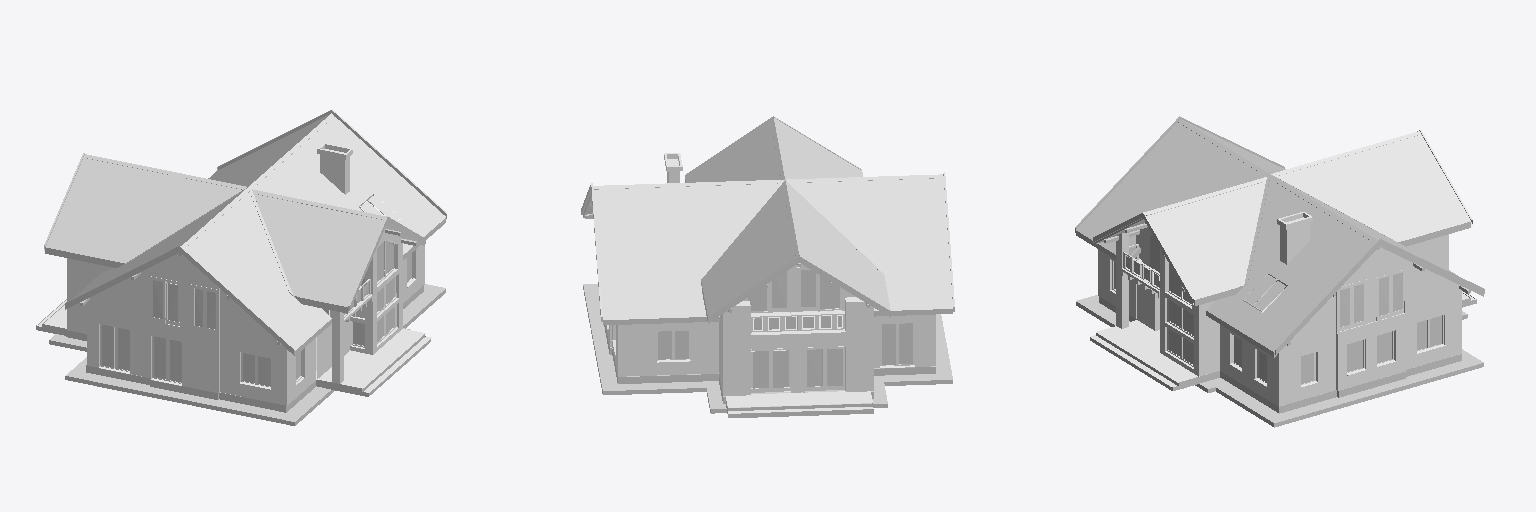
Rendered from realty.obj.
The picture shows the model from 3 angles: view 1: azimuth 30°, elevation 25°; view 2: azimuth 150°, elevation 25°; view 3: azimuth 270°, elevation 25°; orthographic projection.
Parts seen in each view (by area): view 1: 1, 2; view 2: 1, 2; view 3: 1, 2.
Part boxes in pixels (bbox=[...]): 1: bbox=[36, 109, 446, 425]; 2: bbox=[37, 143, 431, 405]; 1: bbox=[581, 116, 954, 417]; 2: bbox=[605, 153, 935, 413]; 1: bbox=[1075, 116, 1484, 427]; 2: bbox=[1091, 212, 1475, 406].
Size of the model in its own units: 203 by 82.53 by 191.